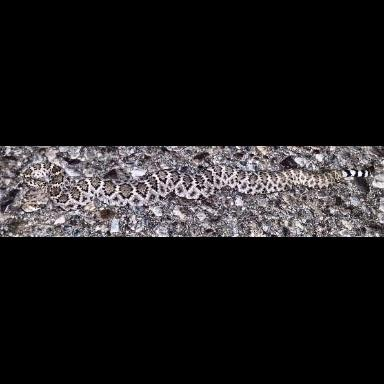snake: (0, 145, 384, 238)
